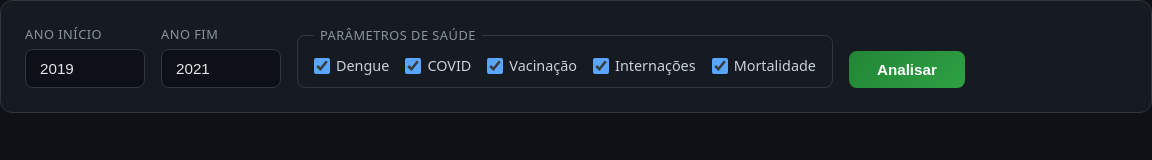
Test: AnalysisControls › re-enables button when one toggle is checked again
This screenshot has width=1152, height=160.
# Uncheck all
Click the checkbox with test id "toggle-dengue" at (322, 66), box [314,58,330,74]
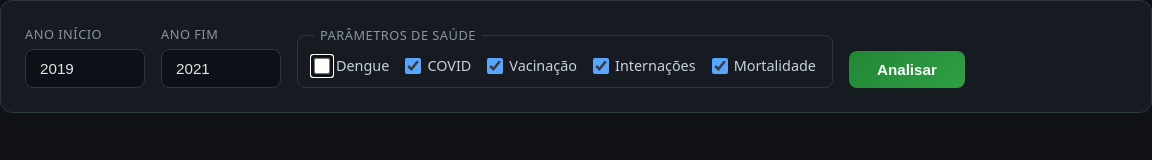
Click the checkbox with test id "toggle-covid" at (413, 66), box [405,58,421,74]
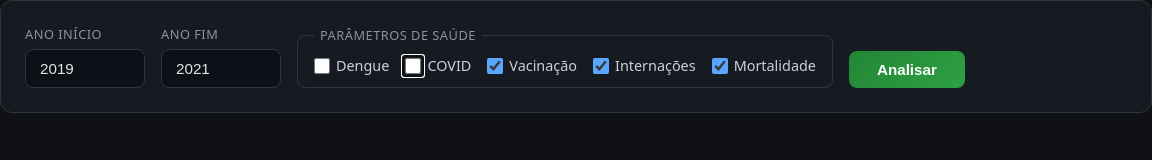
Click the checkbox with test id "toggle-vaccination" at (495, 66), box [487,58,503,74]
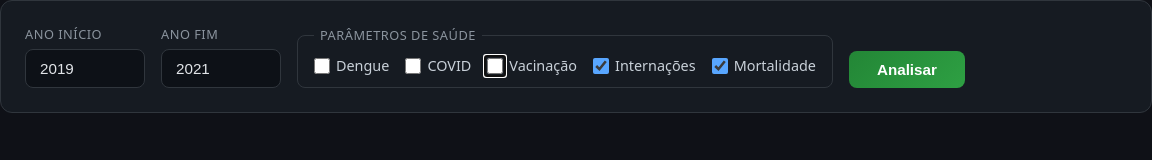
Click the checkbox with test id "toggle-internacoes" at (601, 66), box [593,58,609,74]
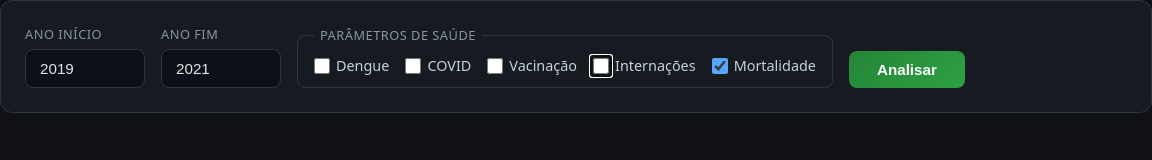
Click the checkbox with test id "toggle-mortalidade" at (720, 66), box [712,58,728,74]
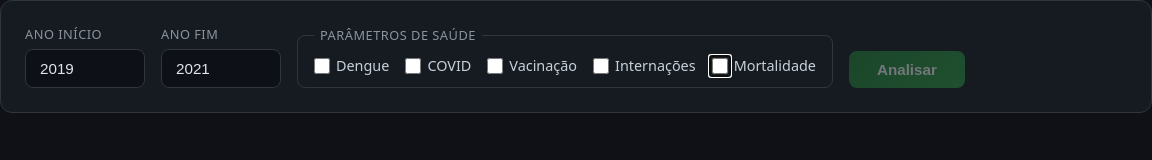
expect the button with test id "submit-button" is disabled: met, box [849,51,965,88]
# Re-check one
Click the checkbox with test id "toggle-mortalidade" at (720, 66), box [712,58,728,74]
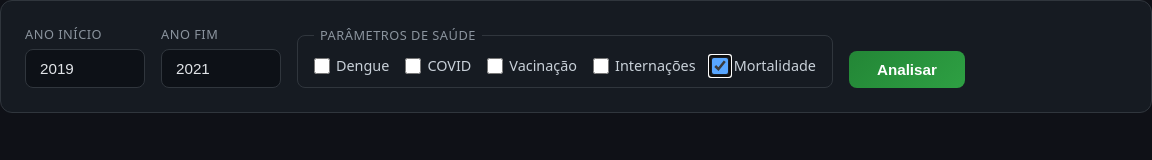
expect the button with test id "submit-button" is enabled: met, box [849,51,965,88]
